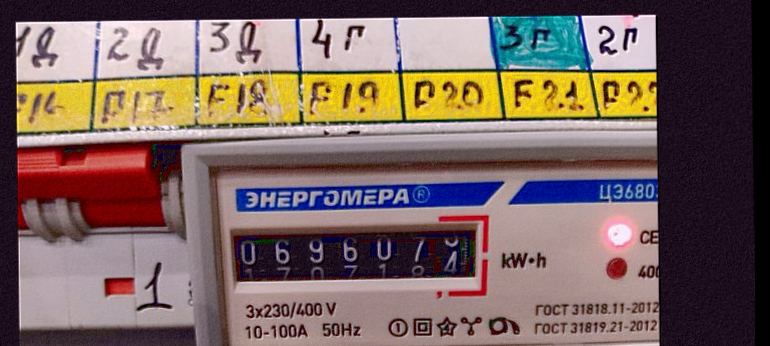0: (374, 232, 393, 263), (239, 238, 257, 266)
4: (441, 247, 459, 276)
6: (341, 234, 359, 263), (273, 237, 291, 265)
7: (408, 233, 428, 264)
9: (306, 236, 325, 264)
screen: (217, 211, 495, 298)
